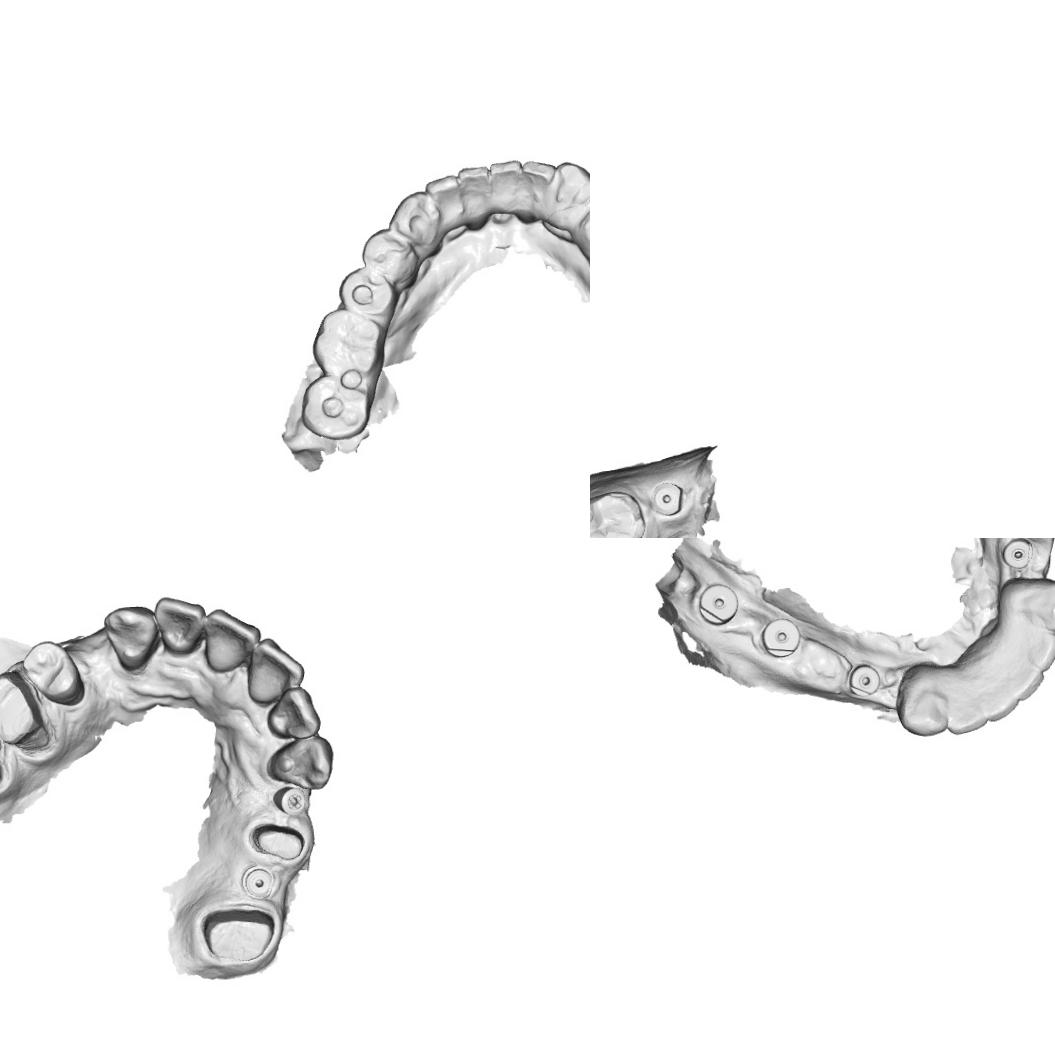canine: (102, 605, 161, 673), (387, 188, 444, 258), (266, 734, 334, 791), (540, 158, 590, 228), (895, 673, 947, 737), (1018, 576, 1055, 633)
crown: (0, 667, 52, 754), (199, 906, 277, 963), (247, 822, 304, 861)
implant: (696, 582, 739, 626), (762, 617, 800, 658), (240, 863, 276, 900), (650, 480, 684, 517), (848, 664, 881, 698), (1001, 538, 1033, 569)
implant_plus: (271, 784, 306, 818)
incisor: (246, 636, 306, 704), (203, 606, 262, 672), (153, 594, 207, 658), (266, 686, 321, 740), (516, 156, 559, 220), (422, 172, 464, 237), (456, 163, 496, 228), (487, 158, 528, 216), (946, 693, 989, 736), (1004, 664, 1046, 702), (1022, 630, 1055, 673), (982, 688, 1020, 722)
molar: (308, 306, 387, 380), (298, 374, 374, 442), (590, 490, 645, 538)
premolar: (20, 640, 86, 708), (358, 225, 420, 286), (336, 264, 399, 322), (575, 199, 590, 263)
